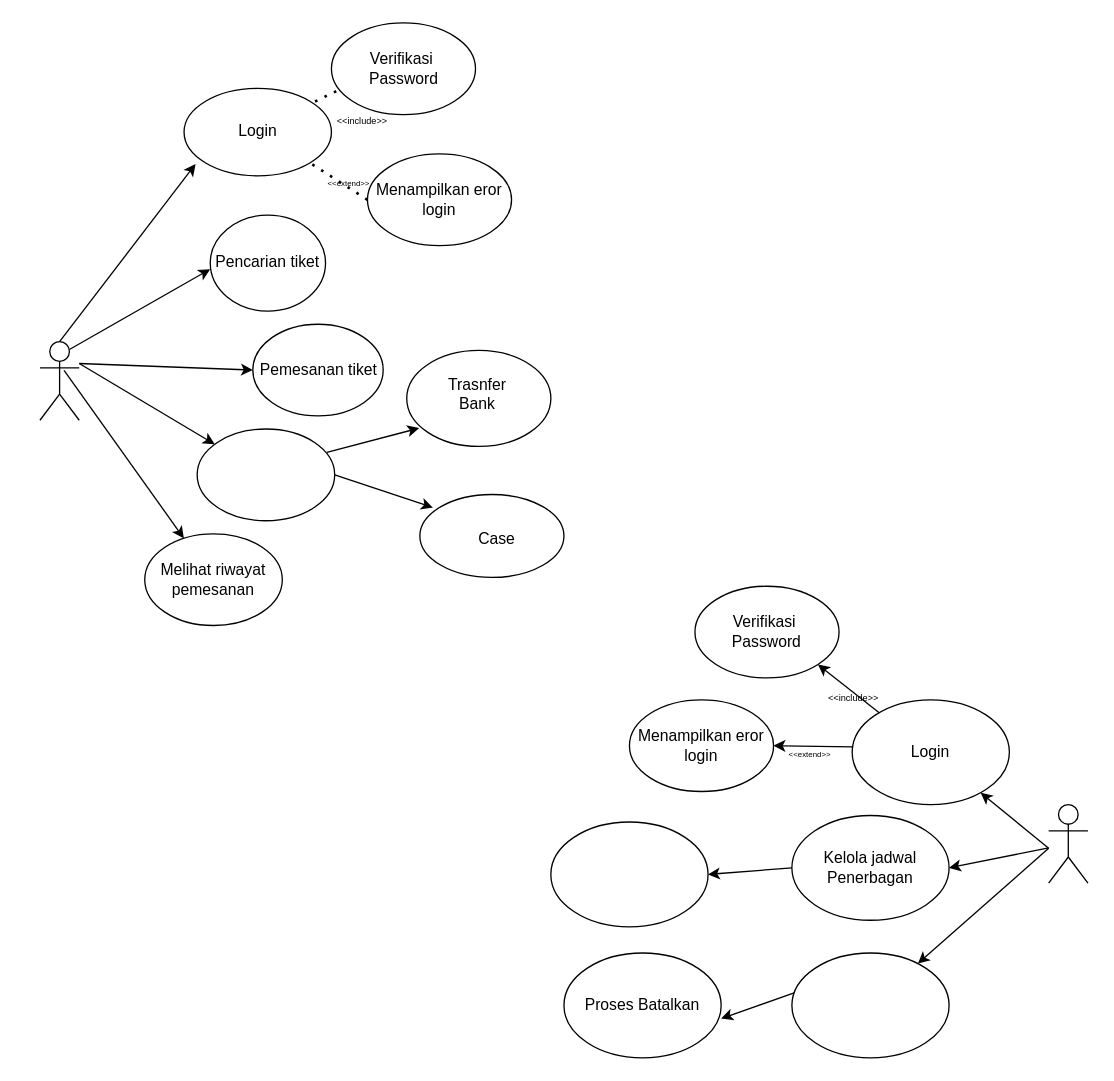
Image size: 1114x1081. Some labels were removed from this diagram. Each missing label, with the centre of its shape:
"Admin" goes at point (1067, 843).
"Kelola Pemsanan" goes at point (870, 1005).
"Menhapus Jadawal" goes at point (629, 874).
"Pelanggan" goes at point (59, 380).
"Pembayaran" goes at point (265, 474).
